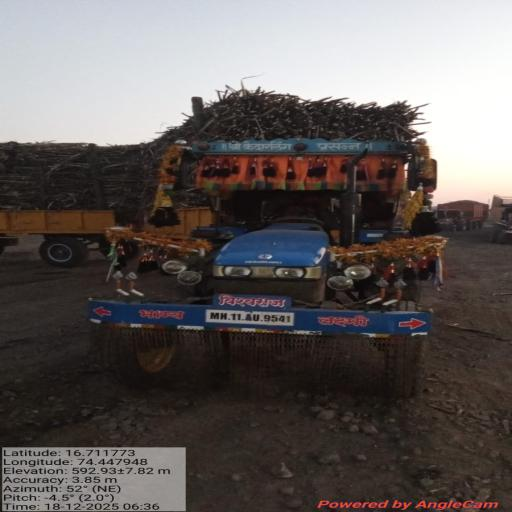number_plate: (206, 310, 294, 326)
